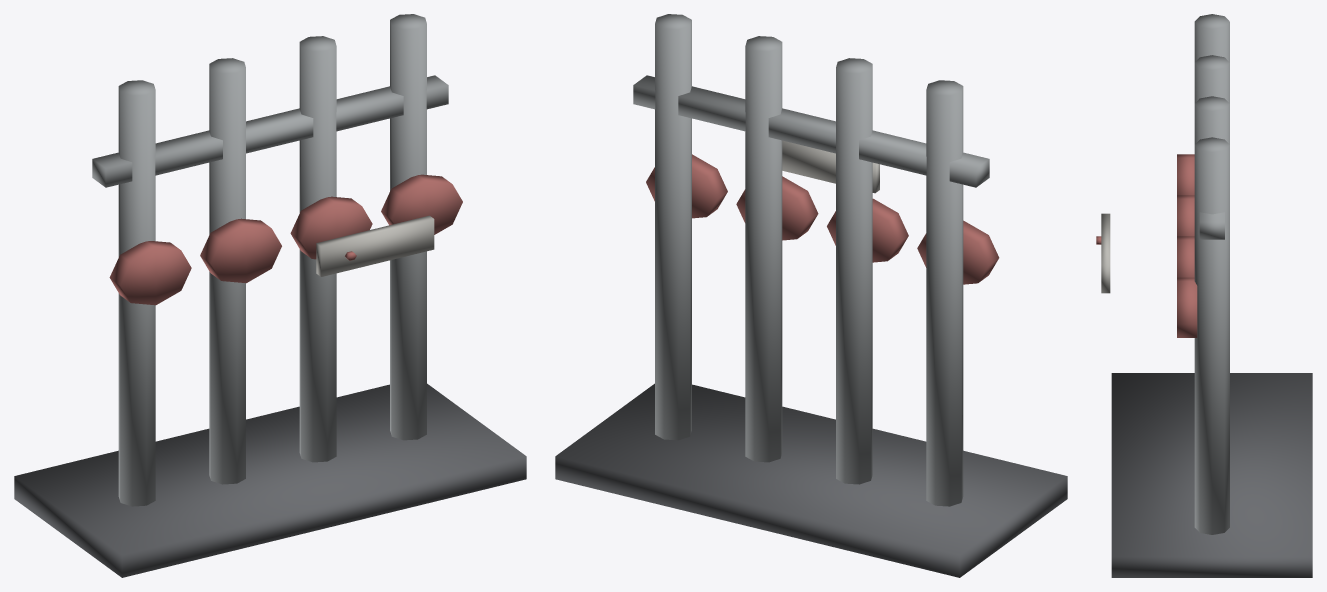
File: radiator_manifold__squat.glb
3 views of the same model, side by side, from view 1: azimuth 30°, elevation 25°; view 2: azimuth 150°, elevation 25°; view 3: azimuth 270°, elevation 25° (orthographic). The views are drawn at different scales.
Parts seen in each view (by area): view 1: world; view 2: world; view 3: world.
Part boxes in pixels (left/top/right/bottom): world: left=14, top=14, right=526, bottom=577; world: left=555, top=14, right=1067, bottom=577; world: left=1096, top=14, right=1312, bottom=577.
Bounding box in the file's own units: 0.935 × 0.9576 × 0.4655.
